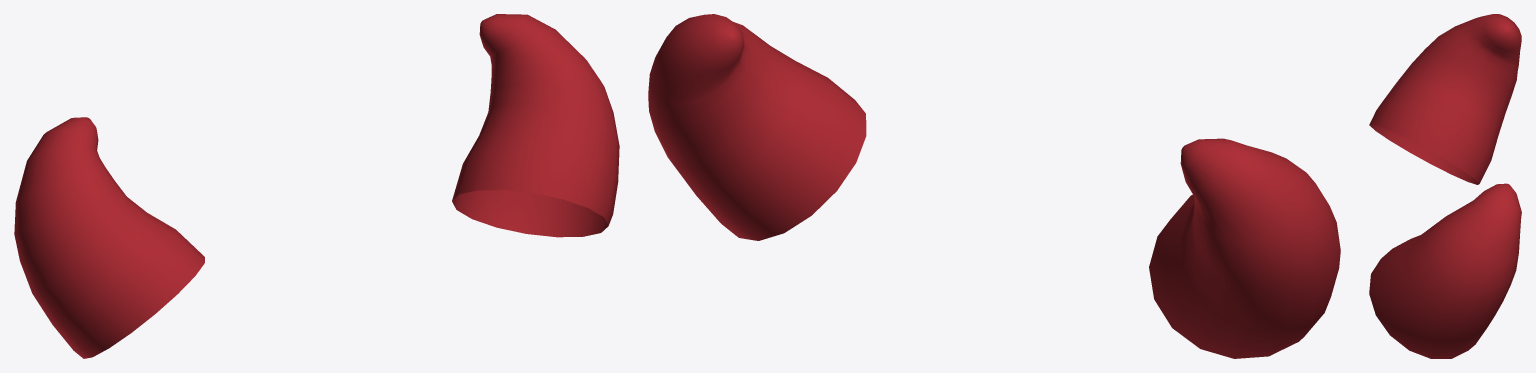
File: horns.fbx
The picture shows the model from 3 angles, left to right: view 1: azimuth 30°, elevation 25°; view 2: azimuth 150°, elevation 25°; view 3: azimuth 270°, elevation 25°; orthographic projection. The views are drawn at different scales.
Visible parts, largest first — view 1: Circle.002, Circle.003; view 2: Circle.002, Circle.003; view 3: Circle.002, Circle.003.
Boxes of the visible parts, <box> form: Circle.002: <box>452,14,619,237</box>; Circle.003: <box>14,117,204,358</box>; Circle.002: <box>648,14,866,240</box>; Circle.003: <box>1149,138,1340,358</box>; Circle.002: <box>1369,183,1521,358</box>; Circle.003: <box>1369,14,1521,184</box>.
Bounding box in the file's own units: 85.58 × 28.89 × 24.39.
